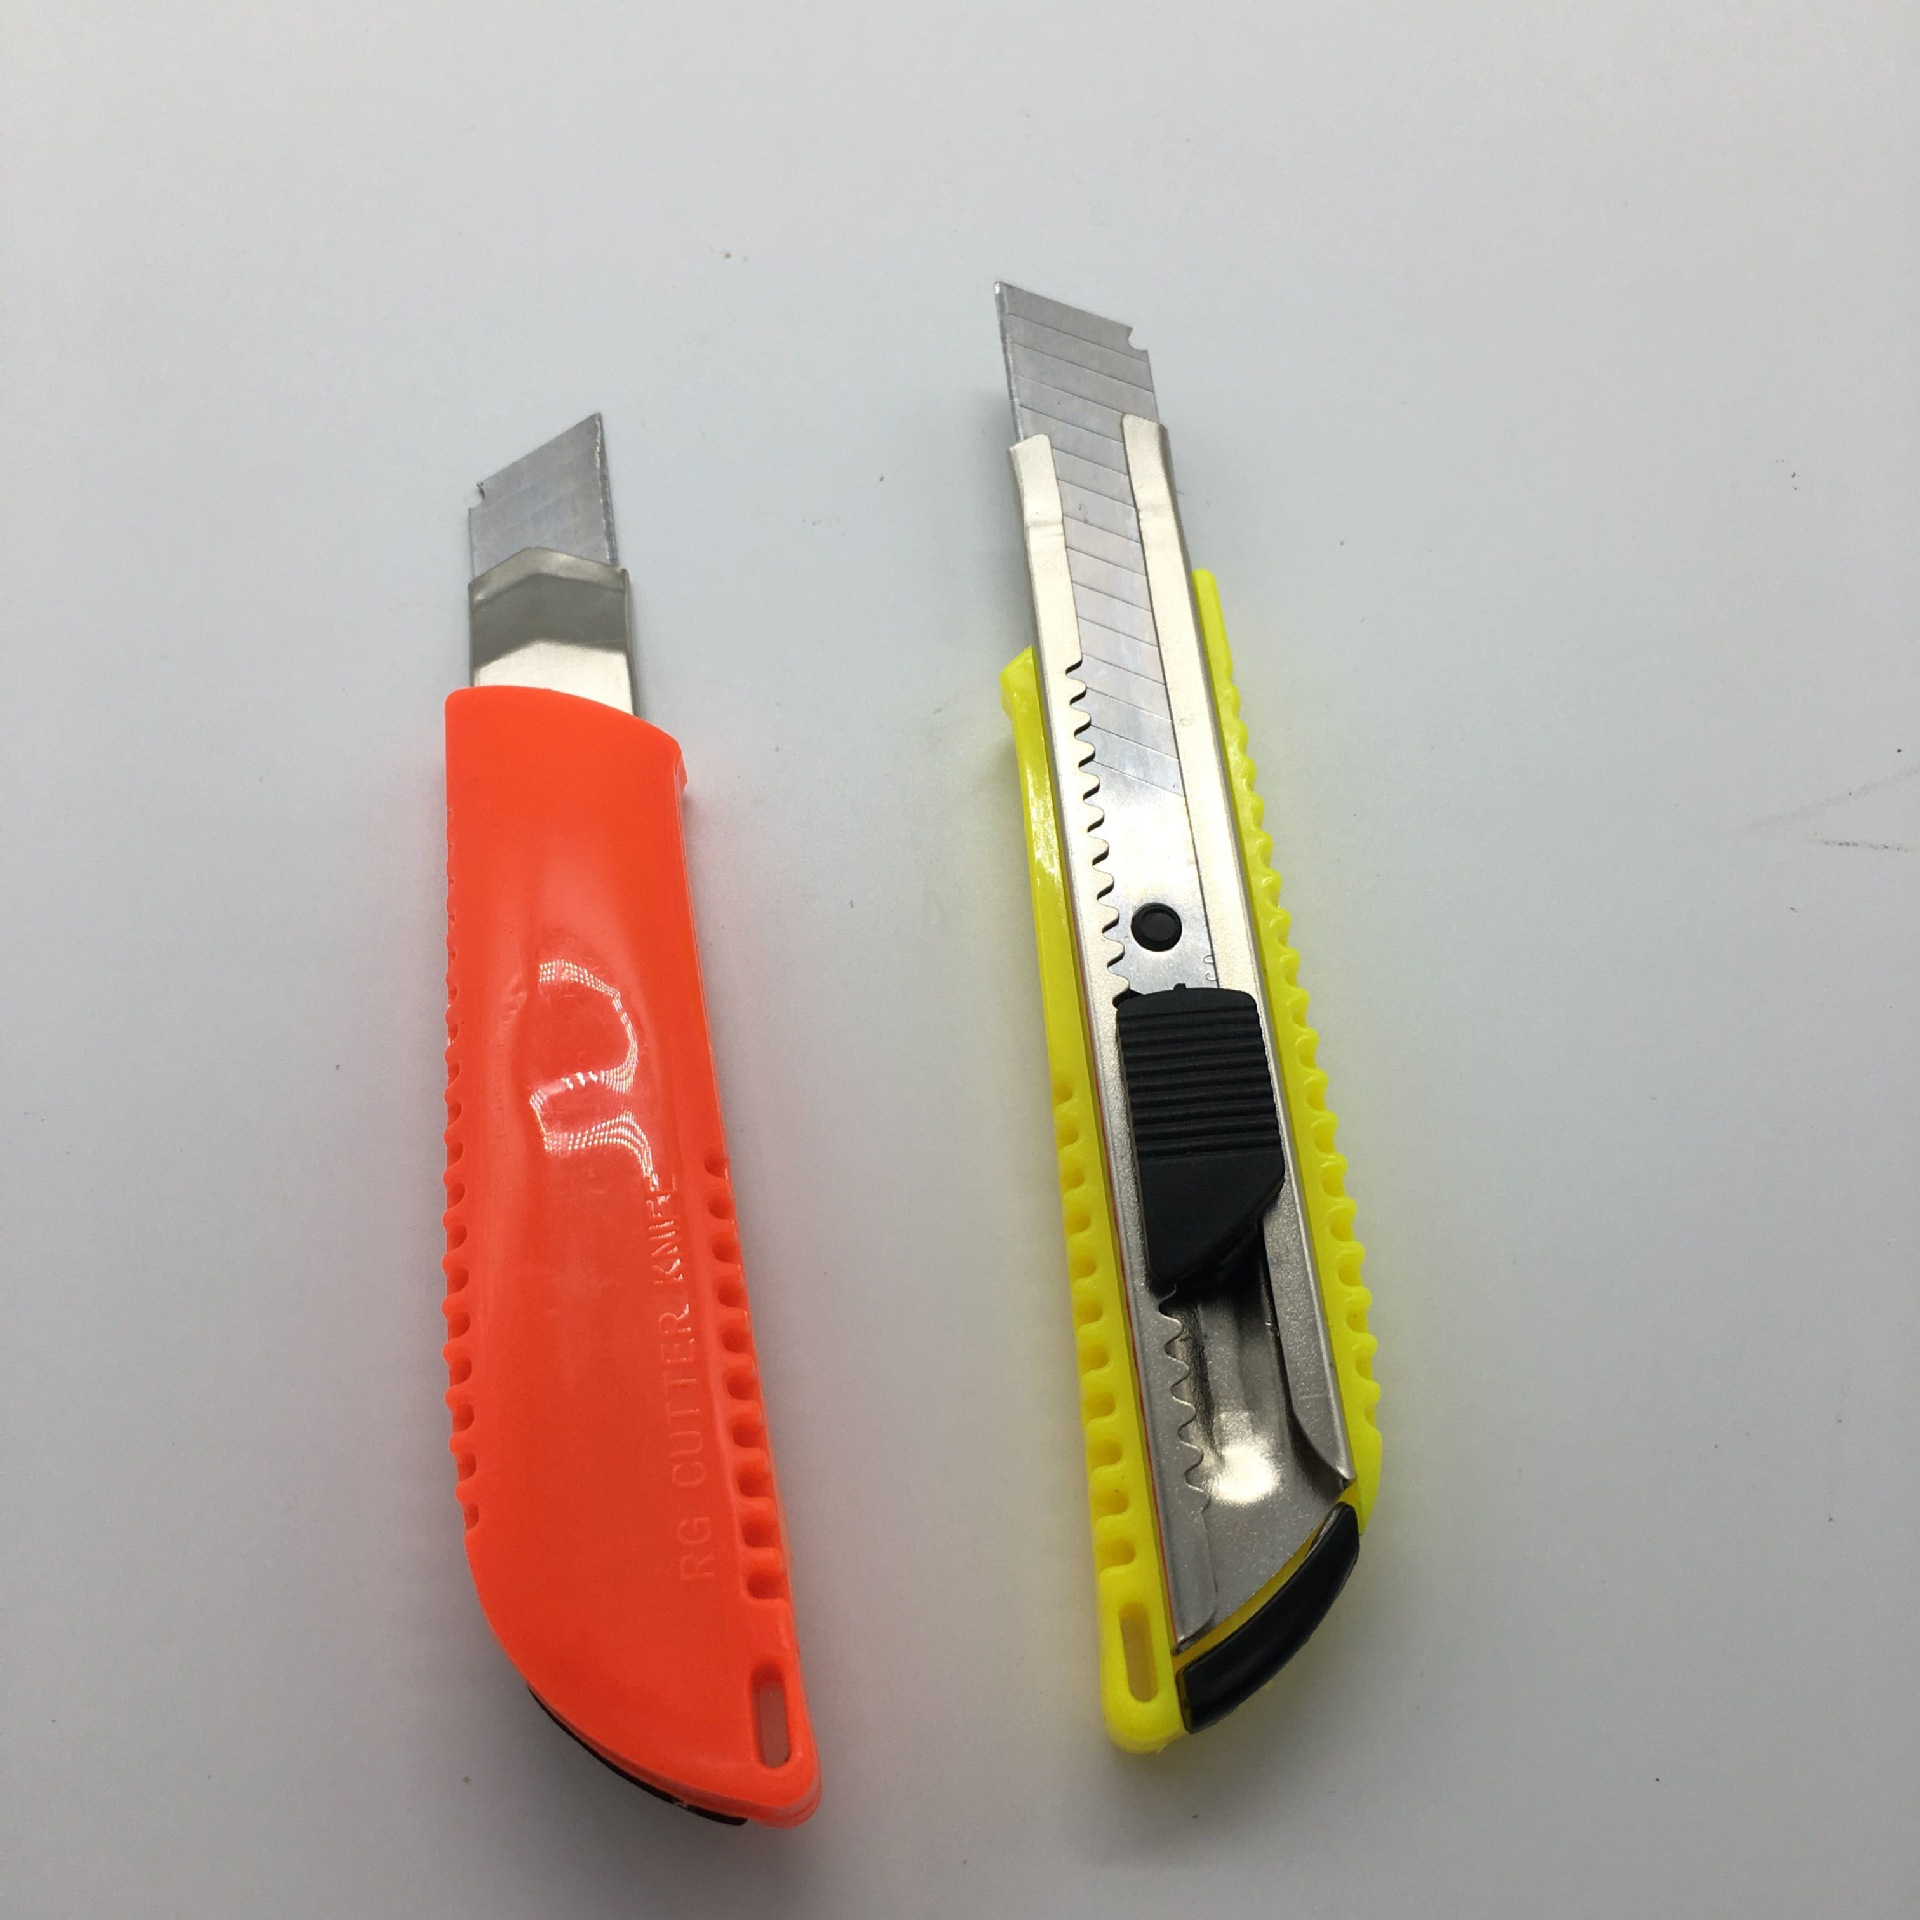cutter: (417, 404, 832, 1841), (990, 276, 1391, 1758)
